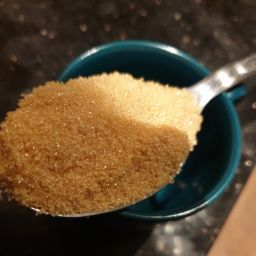Brown Sugar: (1, 75, 204, 221), (25, 115, 172, 165), (10, 131, 127, 189), (44, 93, 187, 140)
